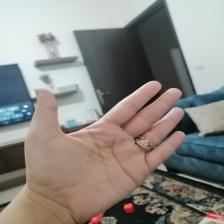five: (18, 80, 190, 208)
